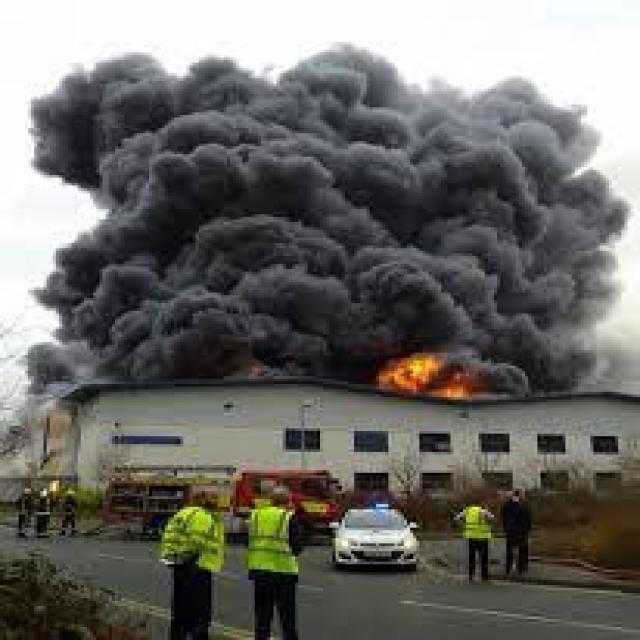Fire: (366, 348, 475, 408)
Smoke: (35, 57, 624, 413)
